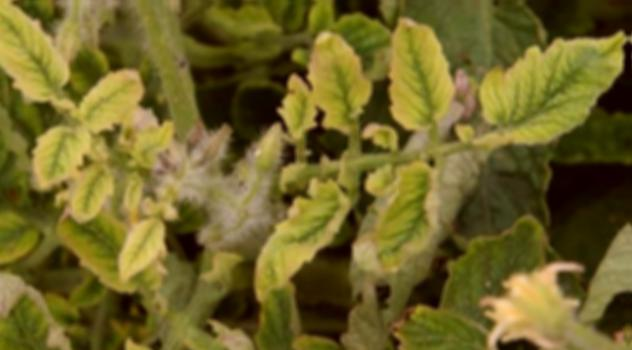Tomato leaf yellow virus: (473, 22, 631, 155), (251, 175, 357, 313), (364, 152, 448, 294), (0, 0, 72, 126), (392, 9, 449, 133), (22, 119, 88, 225), (77, 51, 152, 143), (319, 11, 370, 121), (111, 218, 176, 293)
